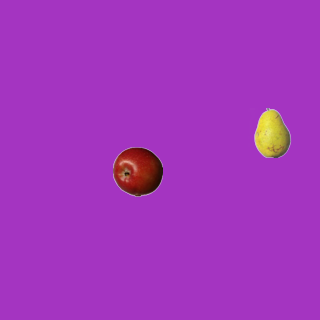Apple Braeburn: (112, 146, 162, 196)
Pear Monster: (247, 107, 297, 157)
